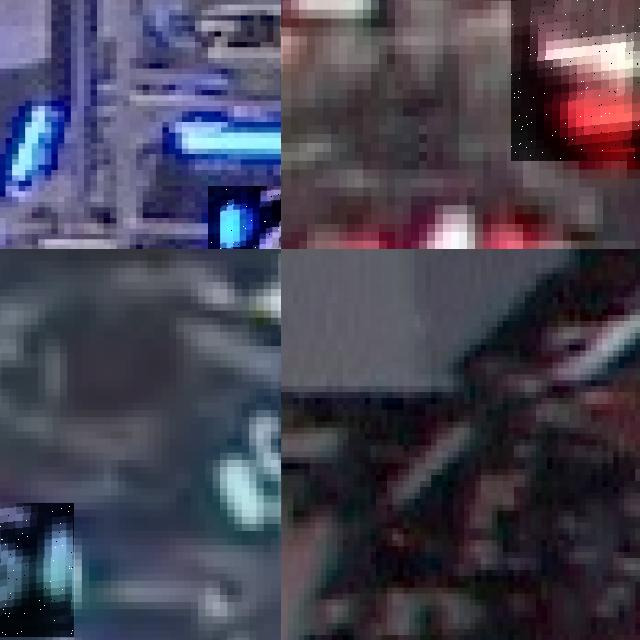B2: (208, 186, 281, 249)
B5: (198, 389, 281, 531), (0, 502, 74, 637)
R4: (511, 0, 640, 161), (327, 192, 543, 249)
